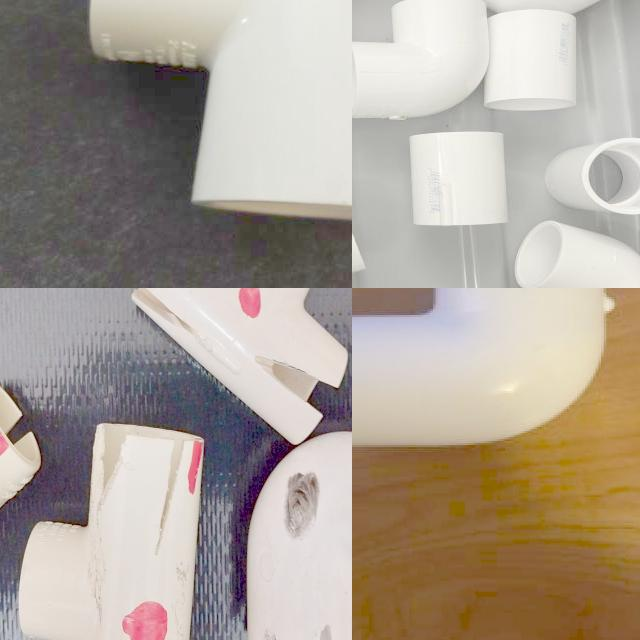Defective: (7, 554, 99, 598), (42, 481, 108, 528), (72, 313, 110, 365), (0, 452, 30, 500), (202, 535, 232, 571), (118, 300, 139, 330), (176, 578, 204, 599), (59, 611, 94, 626), (188, 552, 204, 582), (254, 571, 268, 588)
L Joint: (352, 288, 614, 451), (11, 288, 144, 409)
T Joint: (0, 383, 108, 627), (143, 529, 280, 640)
